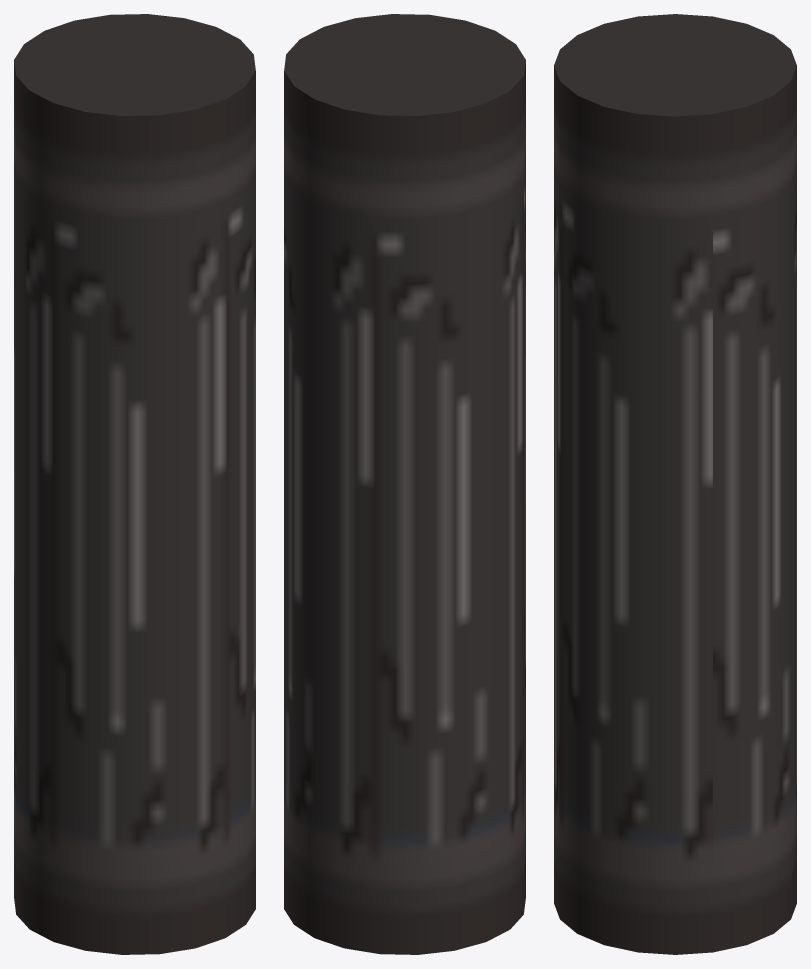
Rendered from column.fbx.
3 views of the same model, side by side, from view 1: azimuth 30°, elevation 25°; view 2: azimuth 150°, elevation 25°; view 3: azimuth 270°, elevation 25° (orthographic).
Parts seen in each view (by area): view 1: pCylinder1; view 2: pCylinder1; view 3: pCylinder1.
Part boxes in pixels (x1,y1,x2,y2): pCylinder1: (14,14,255,954); pCylinder1: (284,14,525,954); pCylinder1: (554,14,796,954).
Bounding box in the file's own units: 1 × 3.81 × 1.
